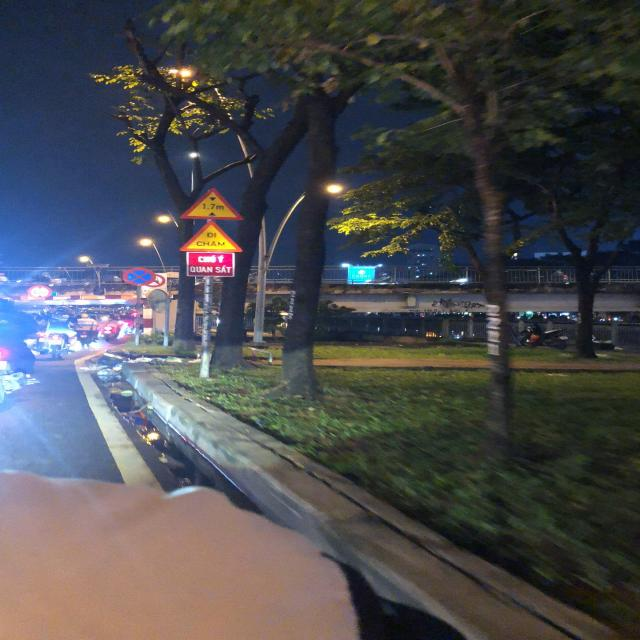Bien bao cam dung xe va do xe: (117, 266, 159, 286)
Bien bao chieu cao tinh khong thuc te: (174, 186, 249, 222)
Bien bao di cham: (172, 221, 250, 255)
